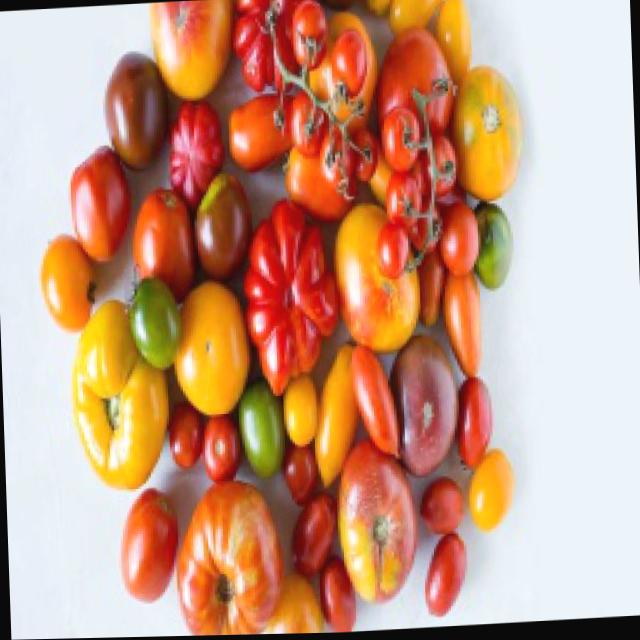tomato: (244, 199, 343, 401), (173, 479, 288, 637), (72, 147, 136, 265), (119, 489, 182, 607), (423, 529, 474, 622), (376, 214, 422, 286)
